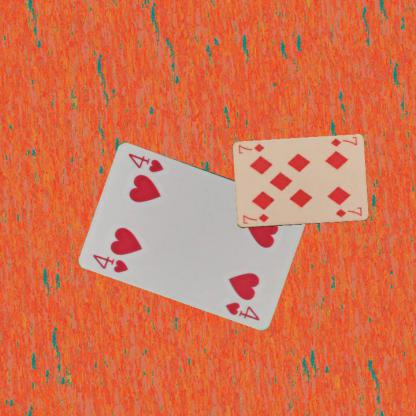4h: (90, 251, 130, 274)
7d: (240, 211, 270, 226), (328, 135, 358, 148)
